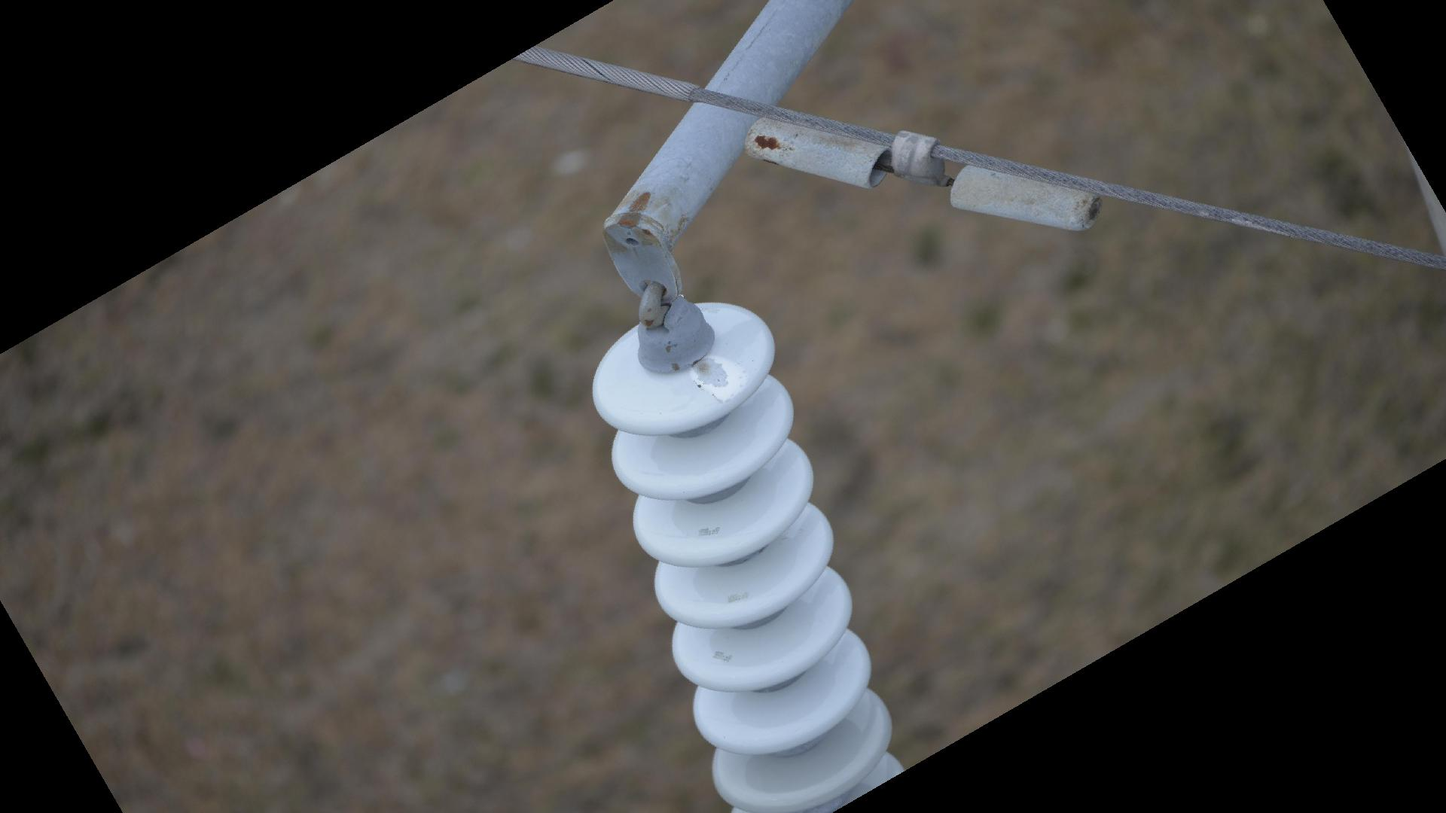insulator: (586, 291, 914, 813)
insulator_flashover: (687, 350, 746, 405)
